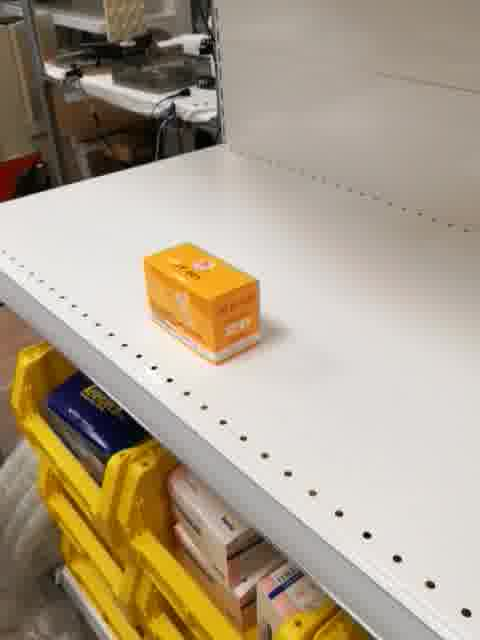jasminetea: (144, 238, 264, 367)
